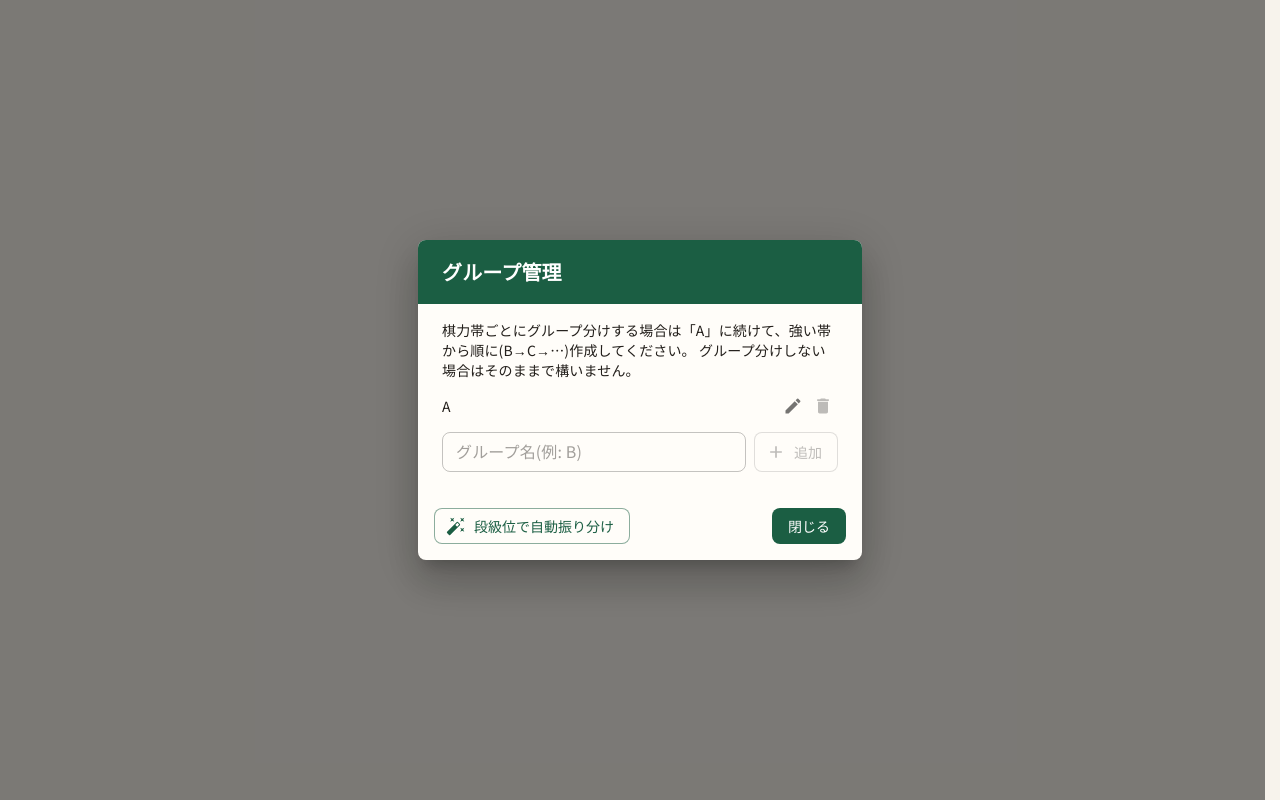
Test: GroupManagerDialog › グループ一覧を表示し、新しいグループを追加できる
Expected: the text "A" is shown, [442,396,451,416]
Type "B" into the field named "新しいグループ名".
click(594, 452); type("B")  # box [442,432,746,472]
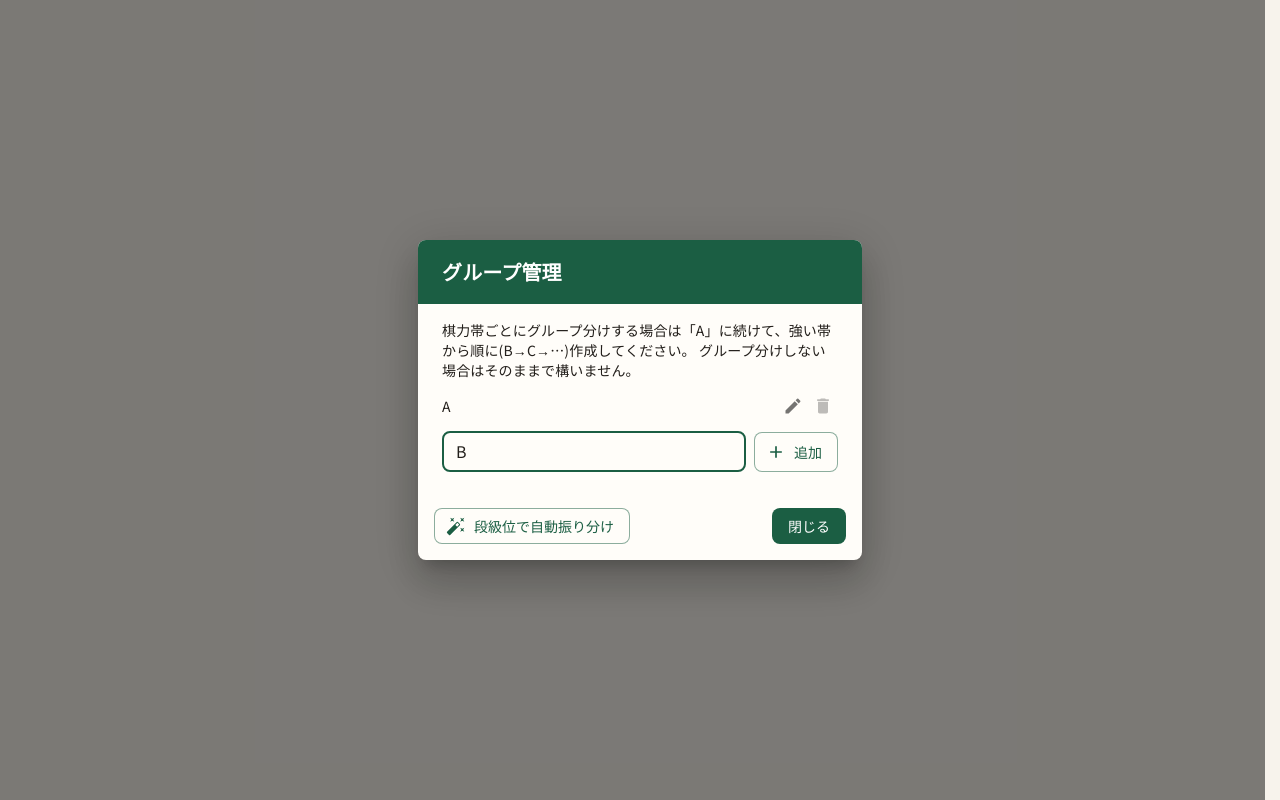
Click the button "追加".
click(796, 452)  # box [754,432,838,472]
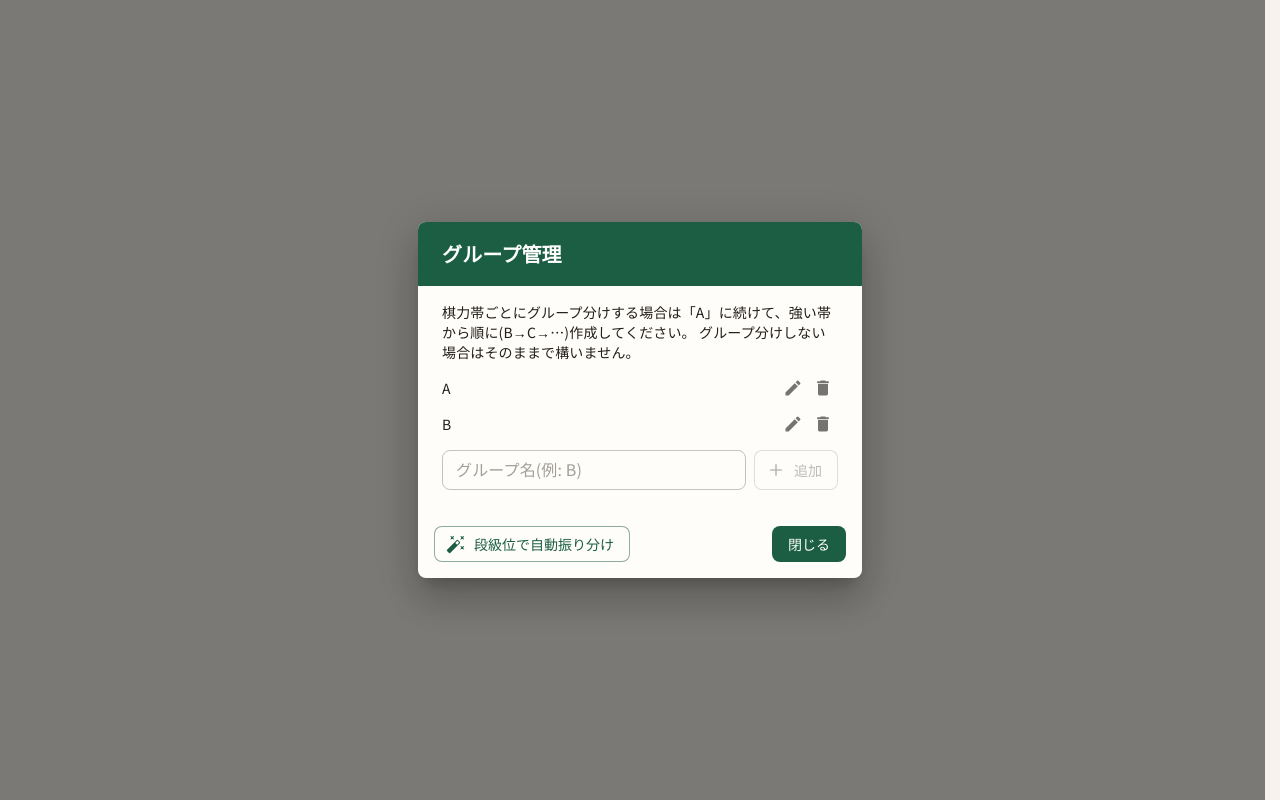
Result: the text "B" is shown at [442,414,451,434]
